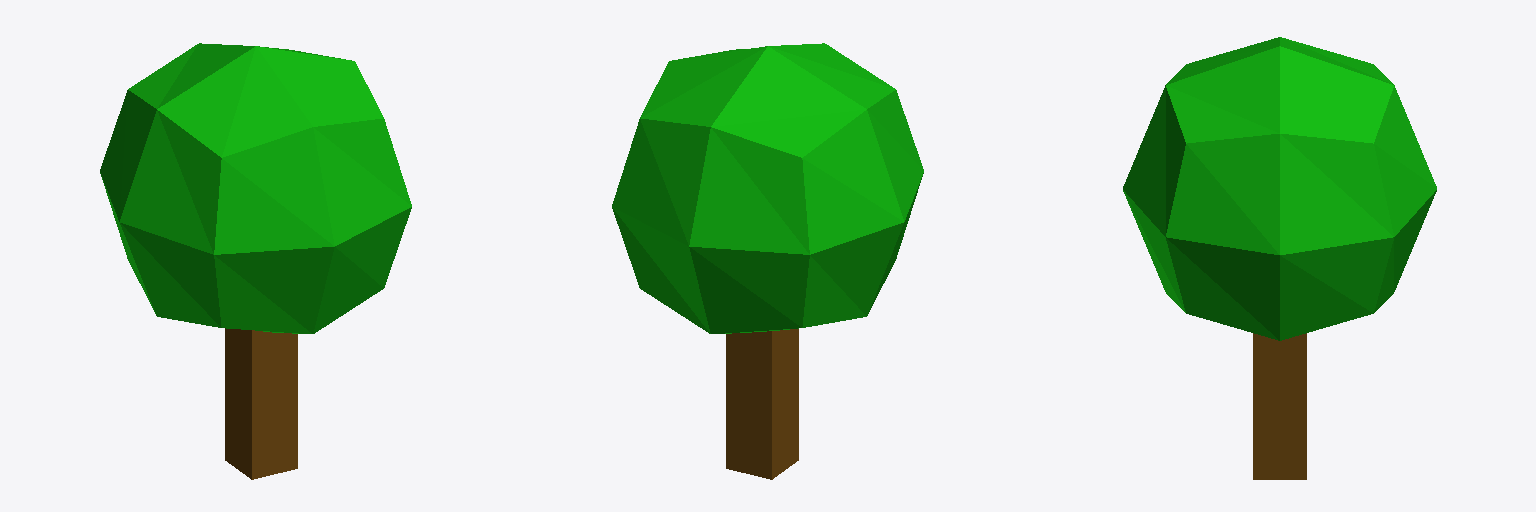
3 views of the same model, side by side, from view 1: azimuth 30°, elevation 25°; view 2: azimuth 150°, elevation 25°; view 3: azimuth 270°, elevation 25° (orthographic).
Visible parts, largest first — view 1: Tree_Cube.003; view 2: Tree_Cube.003; view 3: Tree_Cube.003.
Boxes of the visible parts, x1,y1,x2,y2 form: Tree_Cube.003: [100, 43, 411, 479]; Tree_Cube.003: [612, 43, 923, 479]; Tree_Cube.003: [1123, 37, 1436, 479].
Bounding box in the file's own units: 2.35 × 3.45 × 2.35.
Materials: 1 (1 with a texture image).